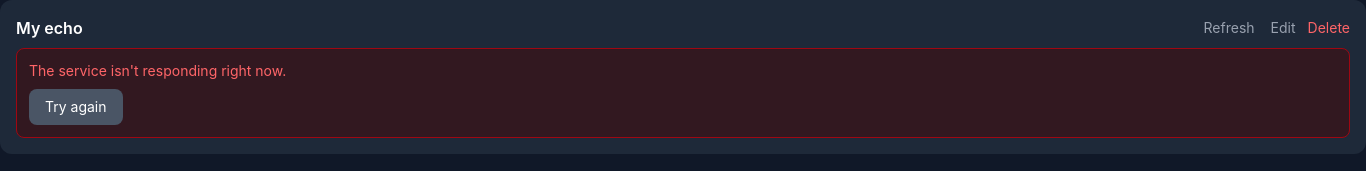
Scenario: a first load that fails › upstream_error: message and Try again
Expected: the message shows "The service isn't responding right now.", top-left (29, 62), bottom-right (286, 79)
What coordinates should you click on to do the following:
click the button "Try again"
I would click on:
 (76, 107)
Its box is top-left (29, 89), bottom-right (122, 125).
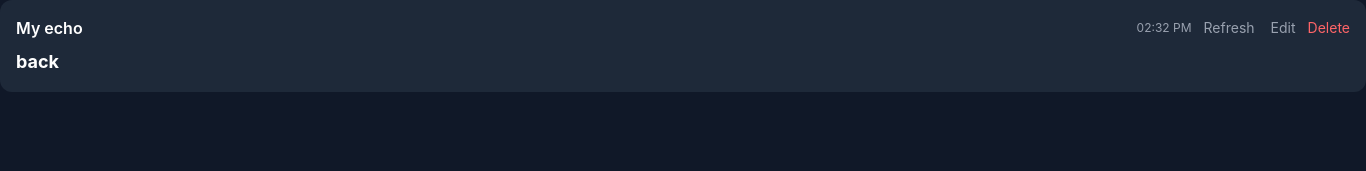
Result: the text "back" is shown at top-left (16, 51), bottom-right (59, 72)
Result: the message "The service isn't responding right now. Try again" is gone
